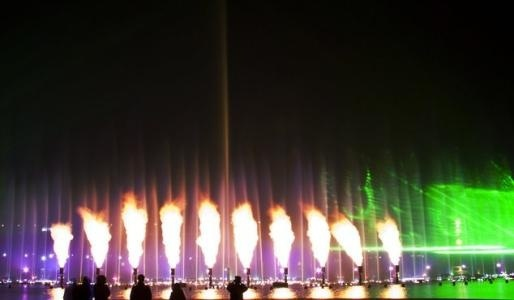fire: (345, 215, 393, 266), (122, 192, 148, 267), (197, 196, 222, 265), (83, 207, 111, 267), (232, 201, 257, 267), (269, 204, 293, 268), (160, 200, 183, 266), (305, 205, 329, 265), (334, 215, 363, 262), (378, 217, 402, 262), (51, 221, 73, 267), (196, 288, 222, 300), (308, 287, 333, 299), (243, 289, 259, 298), (120, 289, 130, 298)
